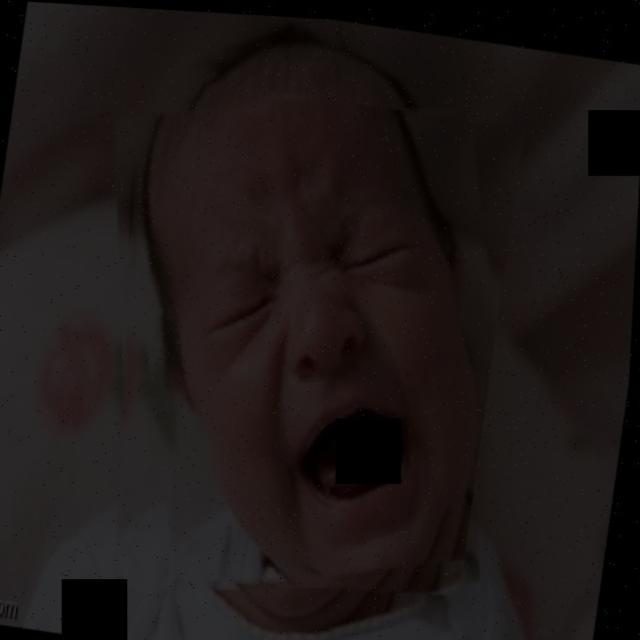Sad: (100, 67, 494, 571)
